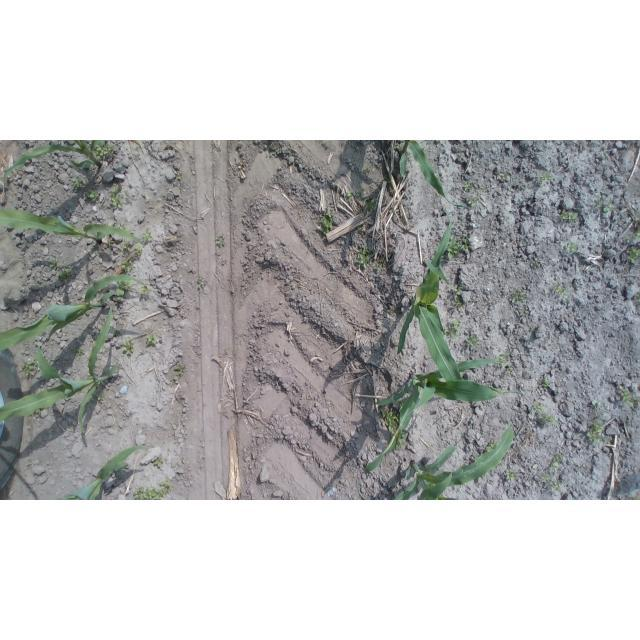Maize: (364, 358, 525, 472), (1, 308, 120, 433), (356, 416, 513, 500), (400, 206, 465, 382), (0, 274, 144, 350), (0, 207, 146, 247), (54, 444, 153, 500), (399, 141, 465, 208), (3, 140, 102, 184)
Weeds: (134, 479, 172, 500), (531, 400, 557, 424), (586, 419, 606, 446), (379, 405, 399, 432), (93, 141, 117, 158), (21, 357, 39, 378), (319, 210, 334, 235), (355, 247, 371, 270), (445, 235, 459, 259), (446, 319, 463, 338), (109, 186, 123, 209), (84, 183, 100, 202), (390, 429, 406, 448), (618, 386, 634, 405), (553, 282, 569, 298), (116, 280, 131, 296), (551, 454, 564, 472), (461, 233, 474, 251), (466, 333, 482, 347), (510, 291, 526, 304), (628, 247, 640, 264), (560, 210, 578, 221), (58, 268, 71, 283), (495, 354, 509, 367), (539, 171, 551, 186), (363, 198, 375, 212), (173, 365, 184, 380), (123, 338, 133, 354), (121, 259, 133, 272), (485, 440, 498, 452), (566, 241, 578, 253), (72, 177, 83, 190), (143, 230, 154, 243), (550, 481, 562, 492), (506, 469, 516, 482), (468, 197, 479, 207), (215, 236, 226, 246), (119, 221, 129, 232), (604, 200, 613, 212), (463, 181, 473, 191), (146, 335, 156, 345), (590, 402, 601, 411), (454, 285, 463, 296), (499, 172, 509, 181), (96, 389, 105, 399), (539, 380, 549, 389), (73, 347, 84, 355), (141, 286, 150, 295), (123, 241, 131, 251), (134, 245, 142, 255), (49, 259, 57, 269), (453, 297, 461, 307), (596, 197, 604, 207), (399, 399, 406, 410), (154, 459, 163, 467), (346, 191, 352, 202), (541, 474, 549, 482), (374, 264, 383, 271), (635, 226, 640, 238), (355, 190, 362, 198), (395, 143, 402, 151), (270, 146, 275, 157), (519, 309, 526, 316), (322, 140, 329, 146), (626, 237, 632, 244), (507, 367, 513, 374), (177, 173, 182, 180), (635, 213, 640, 220), (636, 290, 640, 298), (478, 189, 484, 194), (365, 167, 371, 172), (534, 260, 539, 266), (637, 397, 640, 406), (91, 248, 96, 253), (475, 457, 480, 462), (37, 408, 41, 414), (114, 330, 118, 335), (458, 484, 463, 488), (531, 328, 536, 332), (358, 227, 361, 229)
